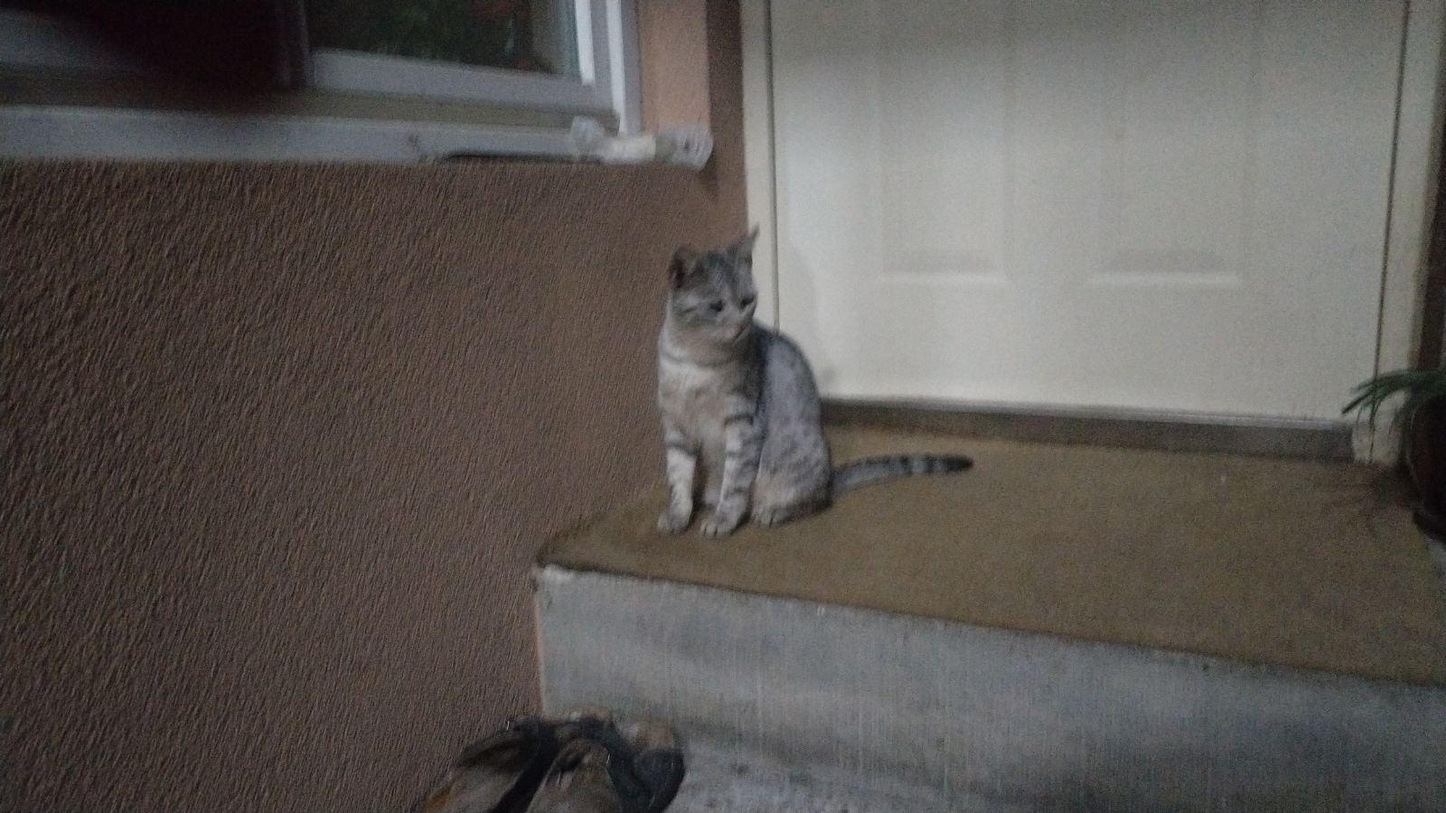macka: (658, 224, 972, 540)
